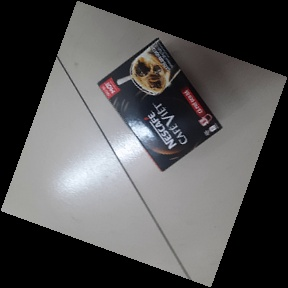CF Viet: (94, 37, 223, 173)
